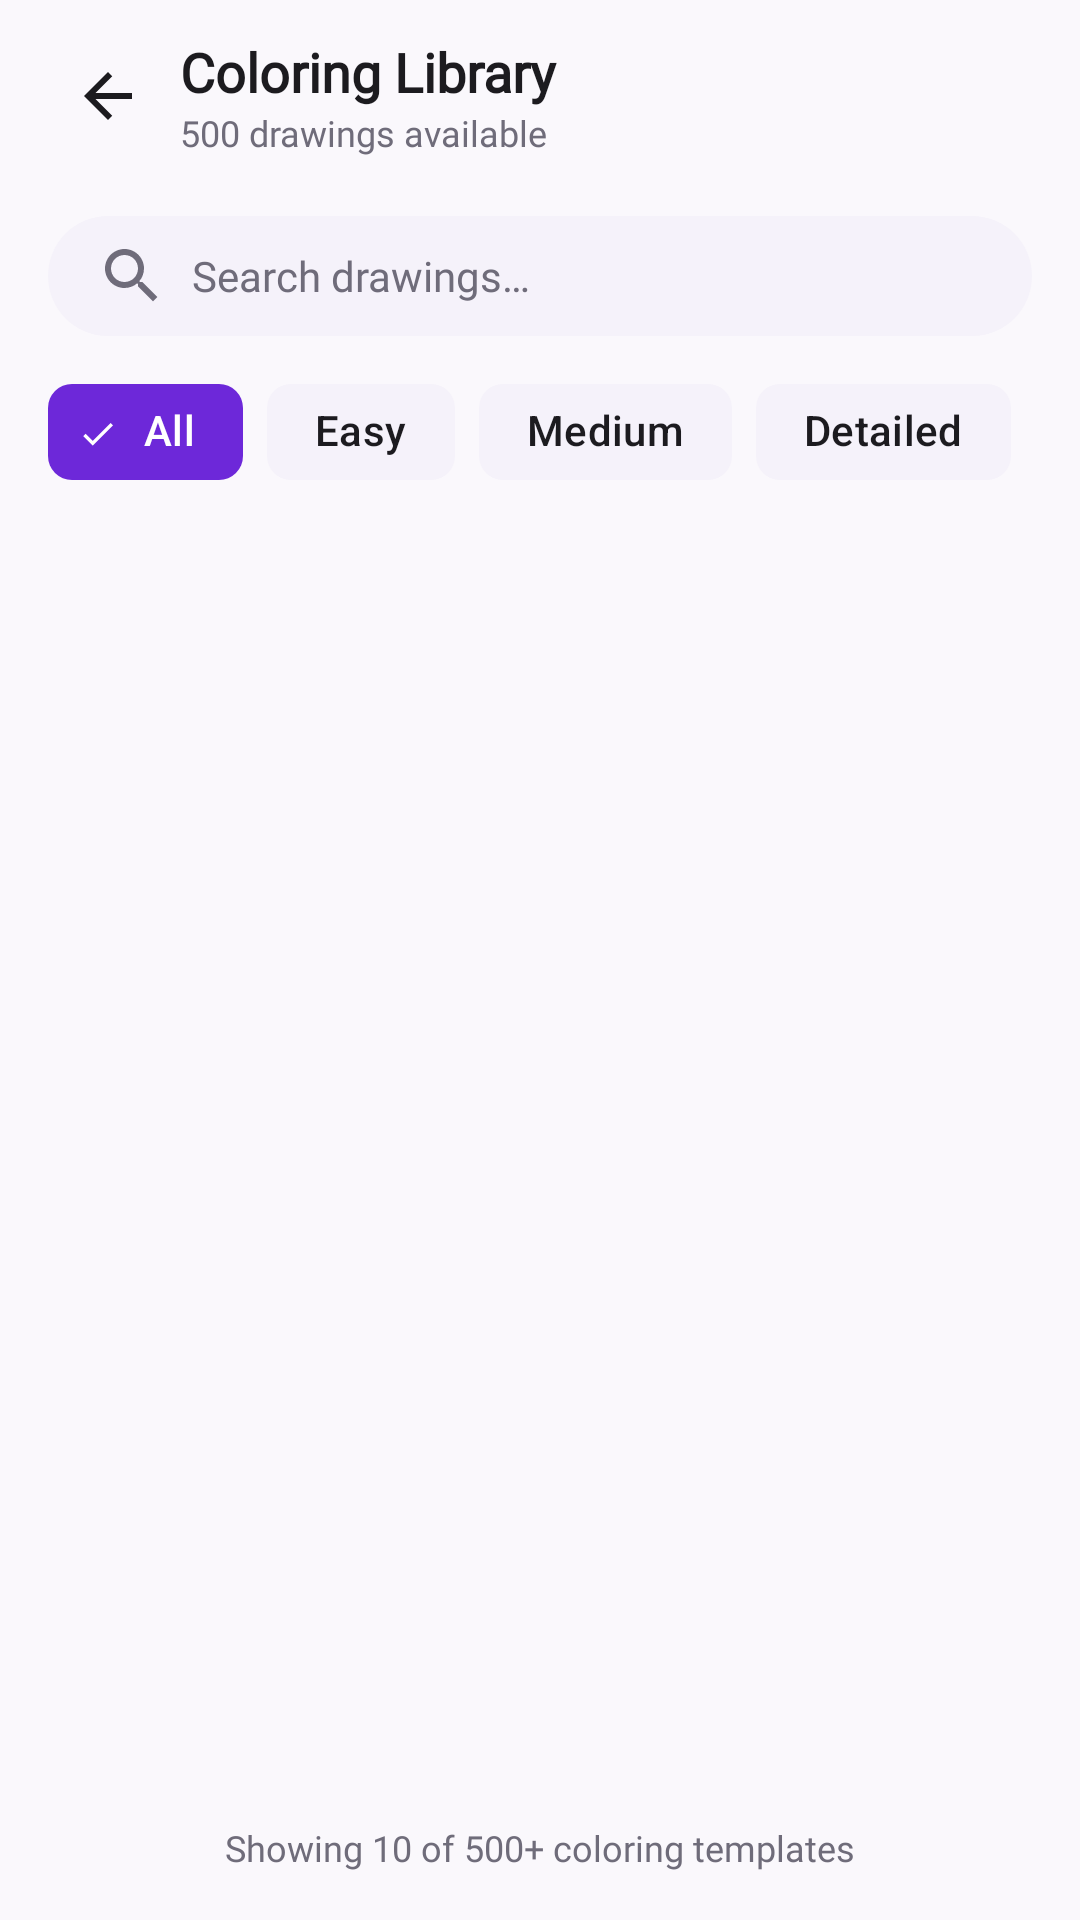

Screen size 1080*1920. Icon name, then its box in pixels as (x1, y1, x2, y2):
Back: (84, 72, 132, 120)
